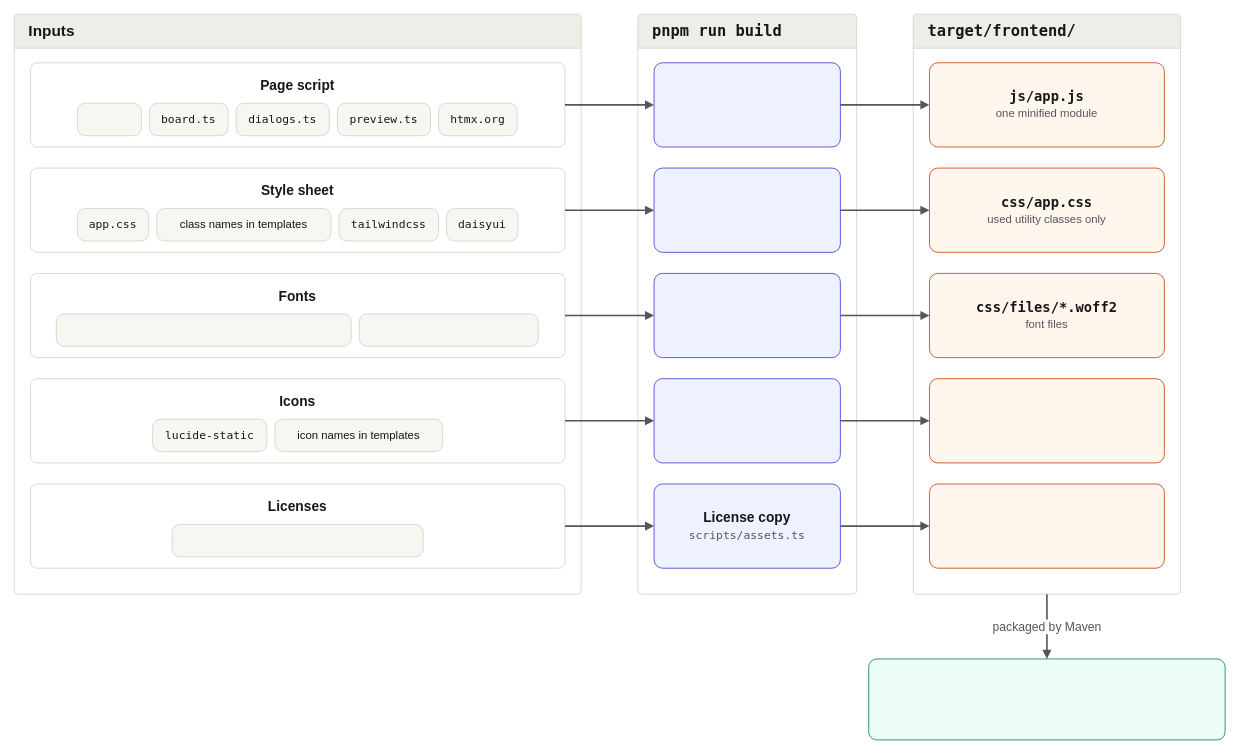
This 1239x754 diagram has some shape labels left out. The shapes that lost their labels are listed below. From the top down, each one's centre as x and y in pixels, then its label:
At point (109, 119): "app.ts".
At point (746, 104): "esbuild bundle scripts/assets.ts".
At point (746, 209): "Tailwind command-line tool package.json".
At point (203, 329): "@fontsource-variable/schibsted-grotesk".
At point (448, 329): "@fontsource/geist-mono".
At point (746, 315): "Font copy scripts/assets.ts".
At point (746, 420): "Sprite assembly scripts/assets.ts".
At point (1046, 420): "icons/sprite.svg named icons only".
At point (297, 540): "license file of each shipped package".
At point (1046, 525): "licenses/*.txt package licenses, not served".
At point (1046, 699): "Executable JAR served: static/ not served: META-INF/licenses/".
